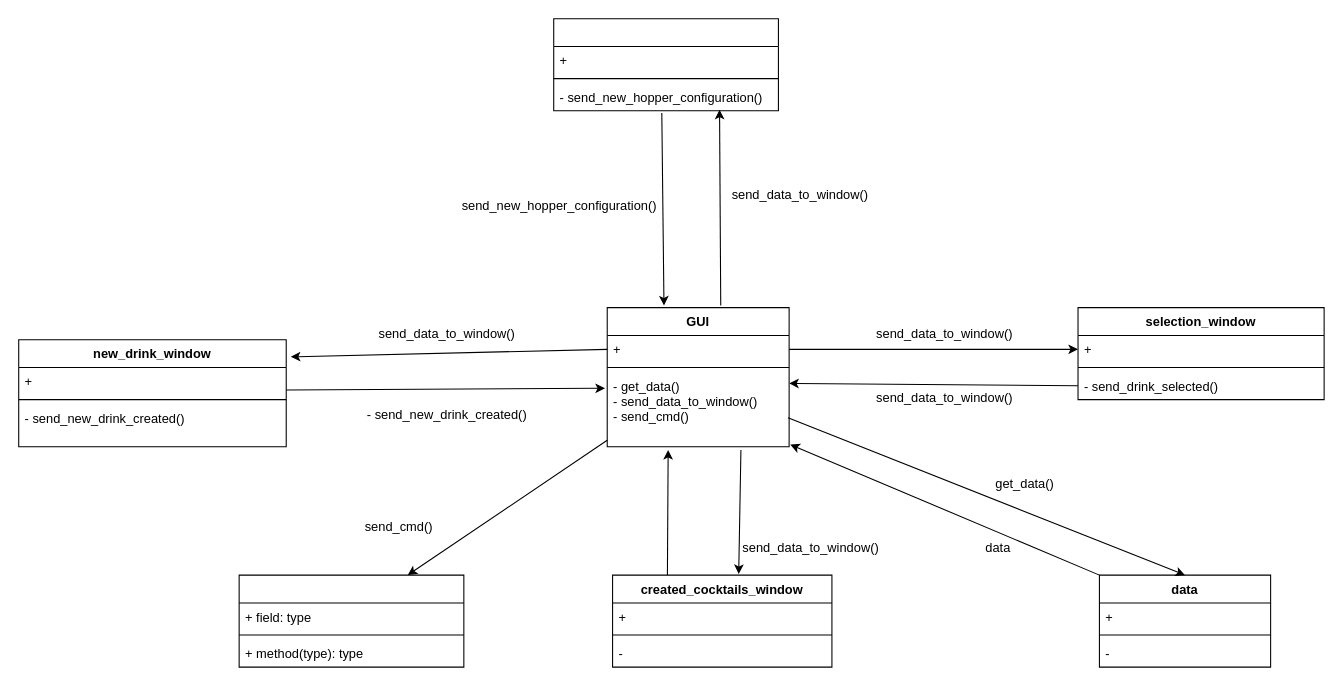
Image size: 1343x689. Some labels were removed from this diagram. Here are the shapes that lost their labels. From the top down, the box of each, then its label:
(553, 18, 778, 111): edit_hopper_window
(238, 574, 464, 667): cmdListing
